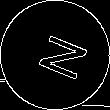N_W: (24, 27, 86, 83)
